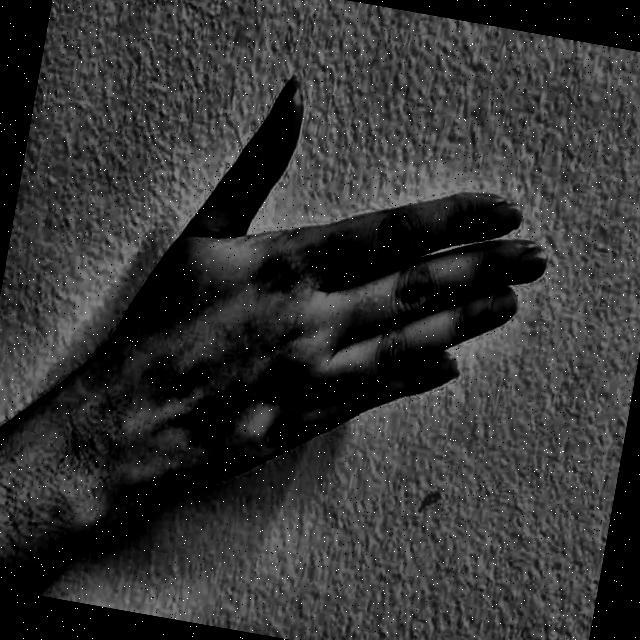Aa: (61, 12, 598, 594)
